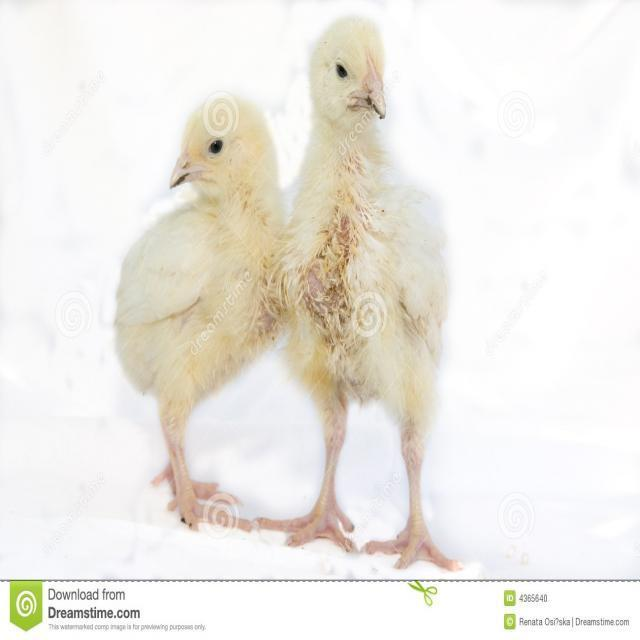poussin: (288, 18, 452, 578), (112, 95, 290, 538)
